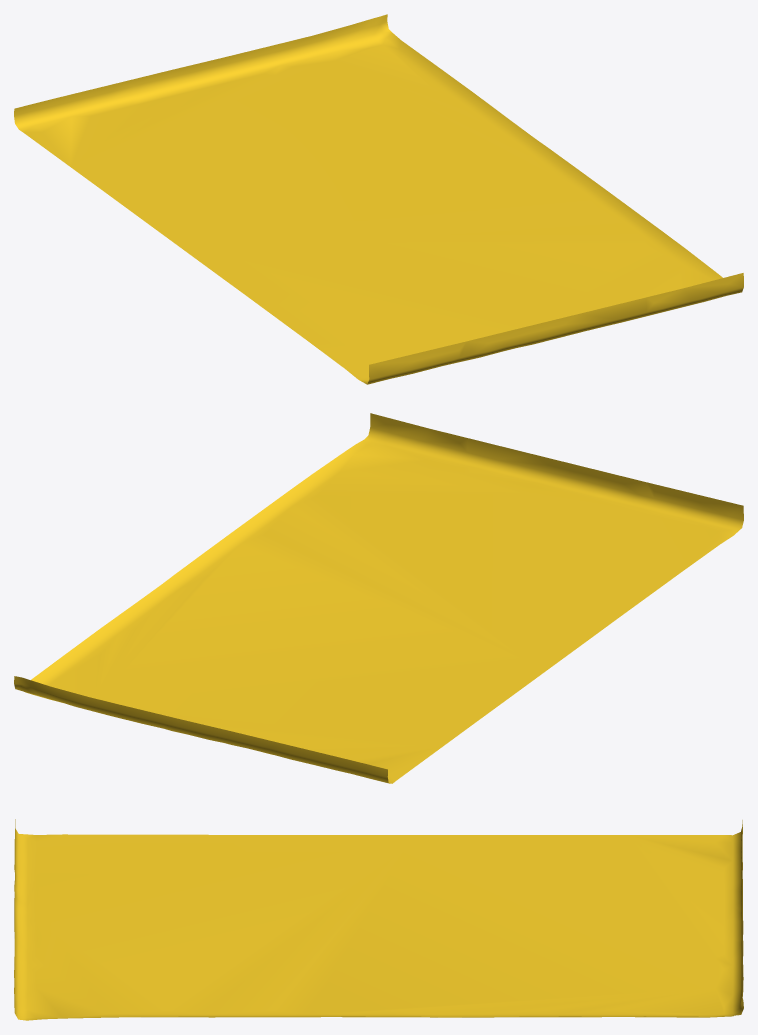
File: SM_Medical_Cart_1_cloth.FBX
The picture shows the model from 3 angles, top to bottom: view 1: azimuth 30°, elevation 25°; view 2: azimuth 150°, elevation 25°; view 3: azimuth 270°, elevation 25°; orthographic projection. The views are drawn at different scales.
Visible parts, largest first — view 1: Medical_Cart_1_cloth; view 2: Medical_Cart_1_cloth; view 3: Medical_Cart_1_cloth.
Part boxes in pixels (bbox=[...]): Medical_Cart_1_cloth: bbox=[14, 14, 743, 384]; Medical_Cart_1_cloth: bbox=[14, 413, 743, 783]; Medical_Cart_1_cloth: bbox=[14, 819, 743, 1020].
Size of the model in its own units: 59.14 by 97.49 by 3.54.
